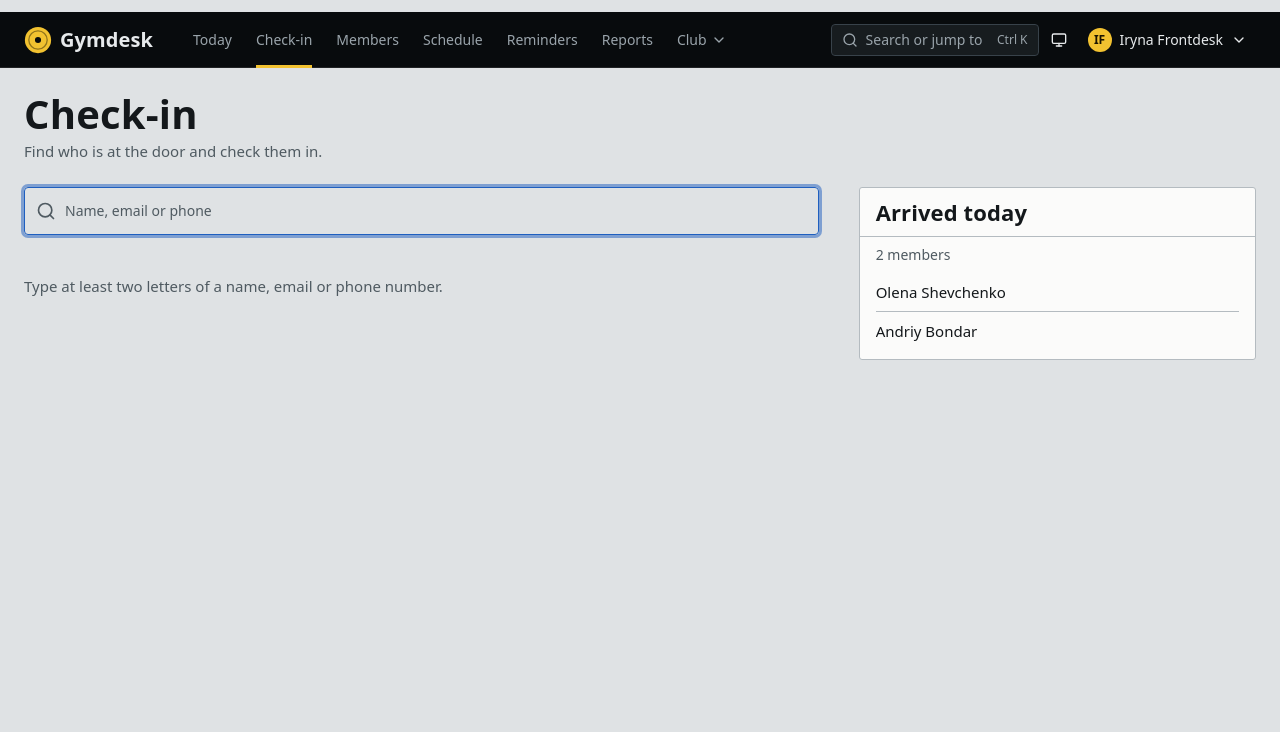
Test case: a whole visit to the front desk › finds a member from the check-in desk and opens their profile
The image size is (1280, 732).
Type "andriy" into the search field named "Find a member" at (421, 210), box [24,186,819,234]
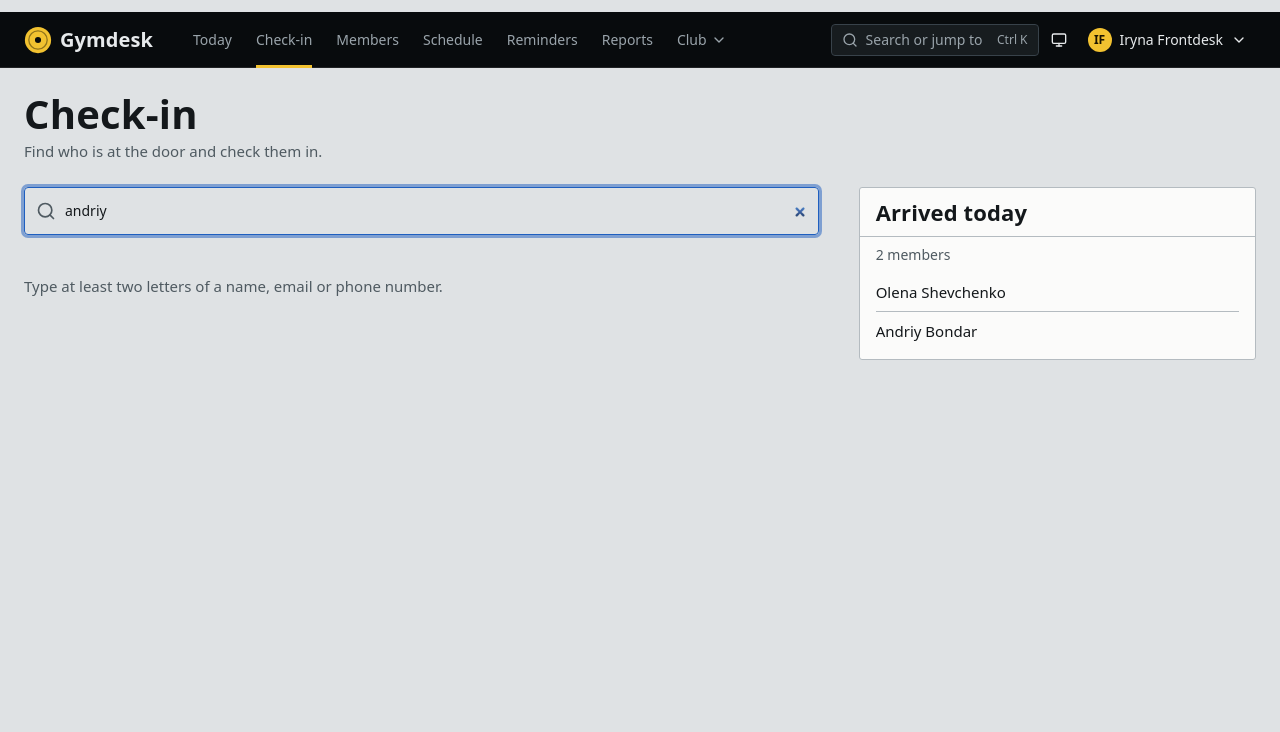
Click the link "Andriy Bondar" at (926, 331), box [876,320,977,343]
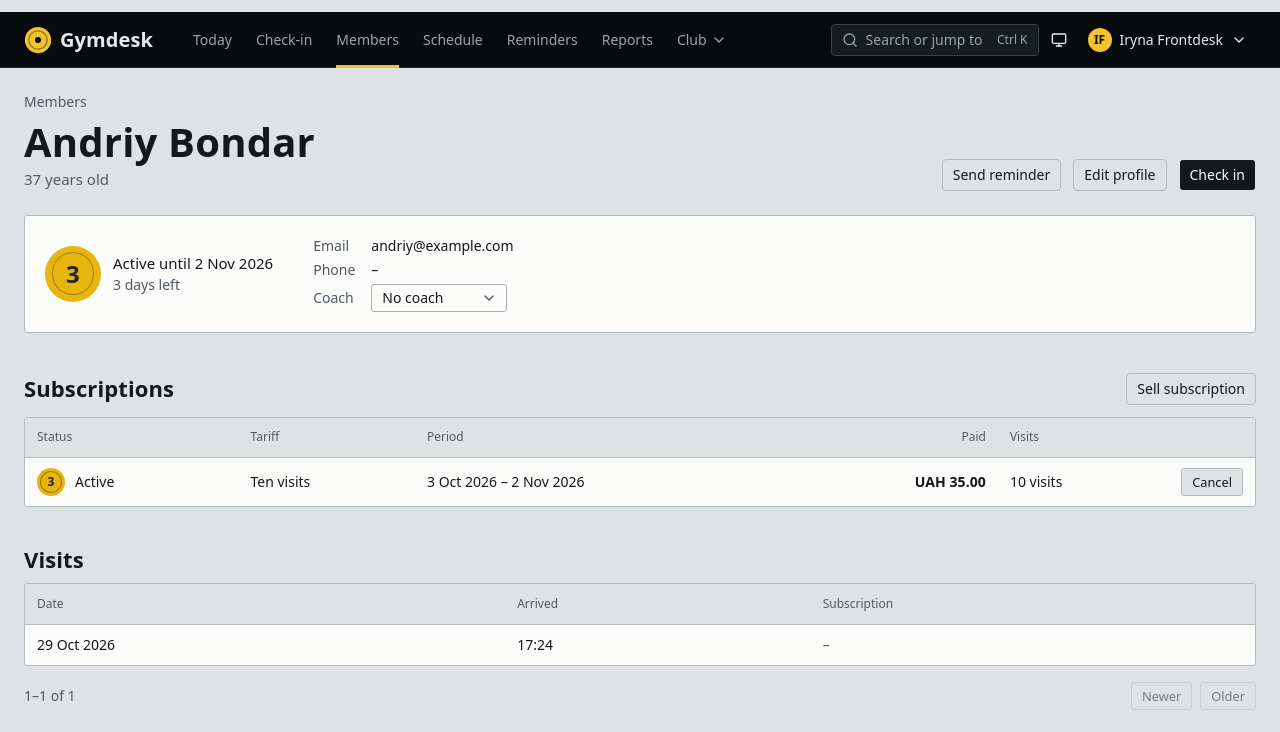
Result: the heading "Andriy Bondar" is shown at [24,120,315,164]
Result: the text "Ten visits" is shown at [238,458,415,506]
